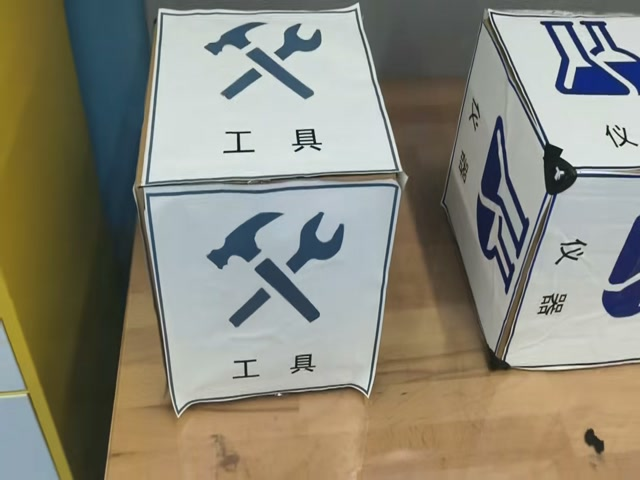Cube_ins: (485, 12, 640, 176)
Cube_tool: (142, 8, 403, 195)
